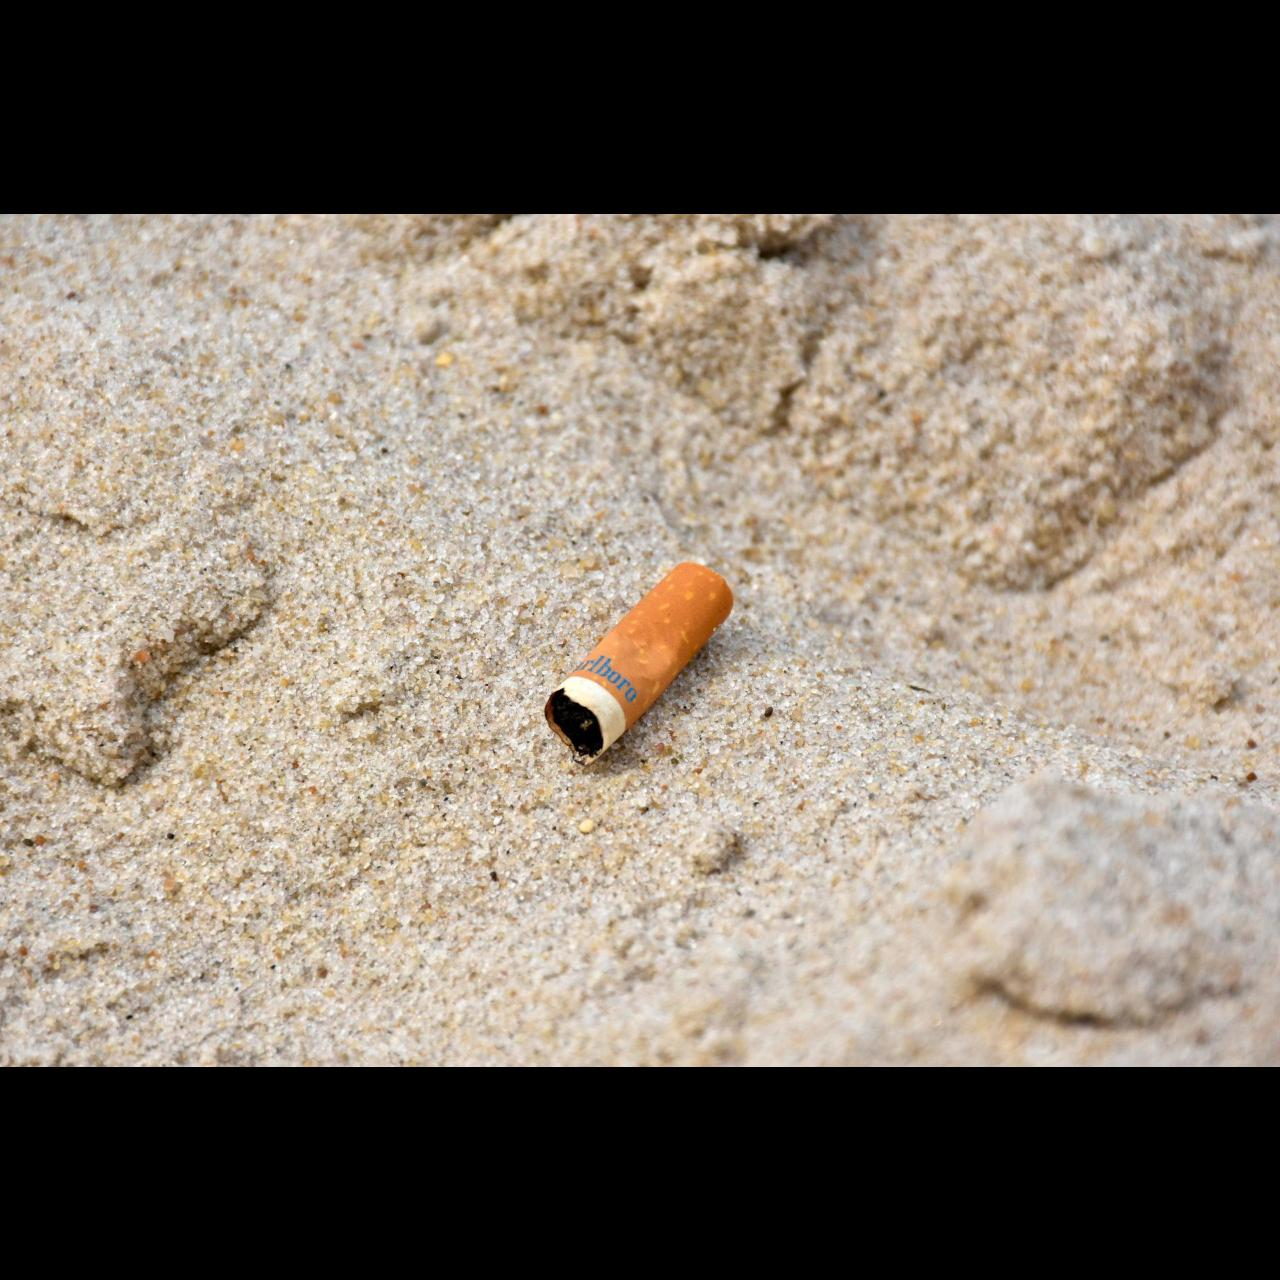cigarettes_butts: (543, 561, 734, 766)
